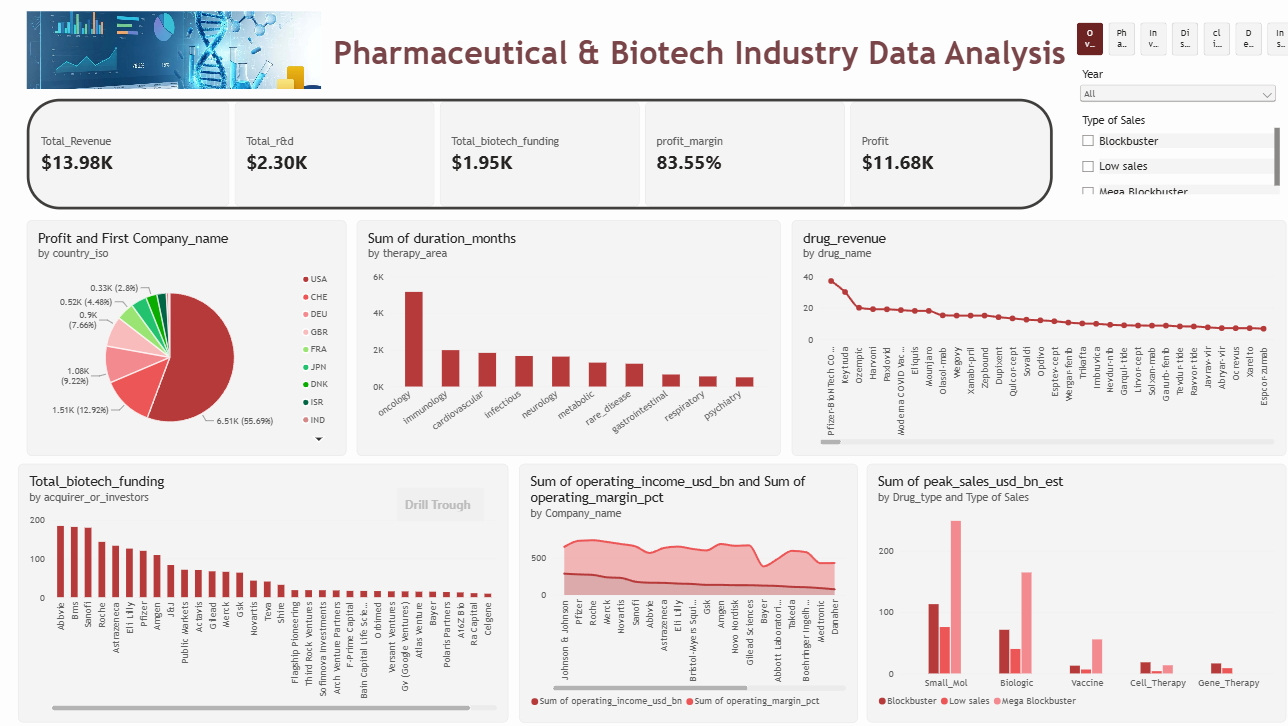

This screenshot's page, from the dashboard's own definition file:
{"tool":"powerbi","page":{"name":"Overview_Analysis","canvas":[1920,1080],"ordinal":0},"visuals":[{"type":"cardVisual","fields":{"Data":["1Table.Total_Revenue","1Table.Total_r&d","1Table.Total_biotech_funding","1Table.profit_margin","1Table.Profit"]},"box":[43.2,146.1,1523.2,164.7],"z":0},{"type":"pieChart","fields":{"Y":["1Table.Profit"],"Category":["Pharma_finance.country_iso"]},"box":[43.2,325.2,473.4,349.9],"z":1000},{"type":"clusteredColumnChart","fields":{"Category":["Biotech.acquirer_or_investors"],"Y":["1Table.Total_biotech_funding"]},"box":[28.8,687.5,726.6,382.8],"z":2000},{"type":"clusteredColumnChart","fields":{"Category":["Clinical_trail.therapy_area"],"Y":["Sum(Clinical_trail.duration_months)"]},"box":[531,325.2,627.8,349.9],"z":3000},{"type":"lineChart","fields":{"Y":["1Table.drug_revenue"],"Category":["Drugs_data.drug_name"]},"box":[1175.3,325.2,732.8,349.9],"z":4000},{"type":"lineClusteredColumnComboChart","fields":{"Category":["Drugs_data.Drug_type"],"Series":["Drugs_data.Type of Sales"],"Y":["Sum(Drugs_data.peak_sales_usd_bn_est)"]},"box":[1286.5,687.5,621.6,382.8],"z":5000},{"type":"stackedAreaChart","fields":{"Category":["Pharma_finance.Company_name"],"Y":["Sum(Pharma_finance.operating_income_usd_bn)","Sum(Pharma_finance.operating_margin_pct)"]},"box":[771.9,687.5,501.3,383.6],"z":6000},{"type":"slicer","fields":{"Values":["Year_table.Year"]},"box":[1597.3,100.9,300.4,63.3],"z":7000},{"type":"slicer","fields":{"Values":["Drugs_data.Type of Sales"]},"box":[1597.3,168.8,300.4,119.4],"z":8000},{"type":"textbox","box":[479.6,32.9,1150.6,82.3],"z":9000},{"type":"actionButton","box":[590.7,722.5,130.3,50.7],"z":10000},{"type":"image","box":[43.2,16.5,436.4,115.3],"z":11000},{"type":"pageNavigator","box":[1597.3,32.9,323.2,49.4],"z":12000}]}

Visuals, with their boxes in screenshot pixels (x1, y1, x2, y2), scaled from the page's 1920x1080 canvas onto the 1288x726 screenshot:
cardVisual - 1Table.Total_Revenue x 1Table.Total_r&d: box(29, 98, 1051, 209)
pieChart - 1Table.Profit x Pharma_finance.country_iso: box(29, 219, 347, 454)
clusteredColumnChart - Biotech.acquirer_or_investors x 1Table.Total_biotech_funding: box(19, 462, 507, 719)
clusteredColumnChart - Clinical_trail.therapy_area x Sum(Clinical_trail.duration_months): box(356, 219, 777, 454)
lineChart - 1Table.drug_revenue x Drugs_data.drug_name: box(788, 219, 1280, 454)
lineClusteredColumnComboChart - Drugs_data.Drug_type x Drugs_data.Type of Sales: box(863, 462, 1280, 719)
stackedAreaChart - Pharma_finance.Company_name x Sum(Pharma_finance.operating_income_usd_bn): box(518, 462, 854, 720)
slicer - Year_table.Year: box(1072, 68, 1273, 110)
slicer - Drugs_data.Type of Sales: box(1072, 113, 1273, 194)
textbox: box(322, 22, 1094, 77)
actionButton: box(396, 486, 484, 520)
image: box(29, 11, 322, 89)
pageNavigator: box(1072, 22, 1287, 55)
